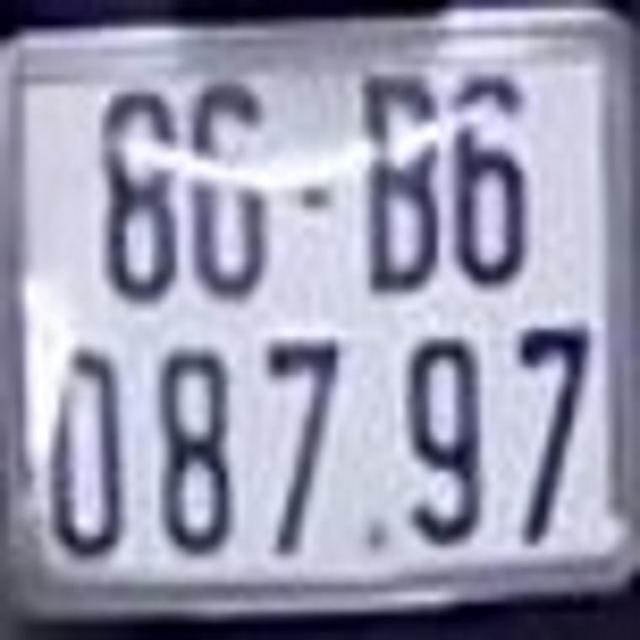0: (46, 344, 132, 560)
6: (193, 81, 279, 297), (456, 72, 530, 291)
7: (514, 322, 592, 545), (263, 333, 330, 568)
8: (157, 339, 245, 556), (101, 90, 183, 305)
9: (404, 332, 494, 540)
B: (362, 67, 445, 296)
